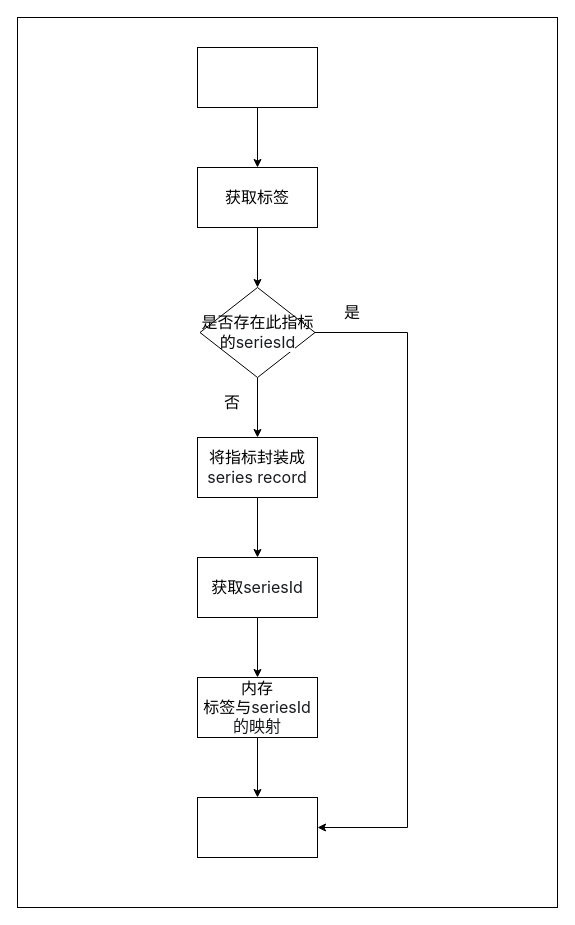
Some shapes in this 575 by 925 pixel diagram are drawn without their labels. The shapes that lost their labels are listed below. From the top down, each one's centre as x and y in pixels, then its label:
the point at 257,77: 指标/数据/样本
the point at 257,827: 返回 seriesId
